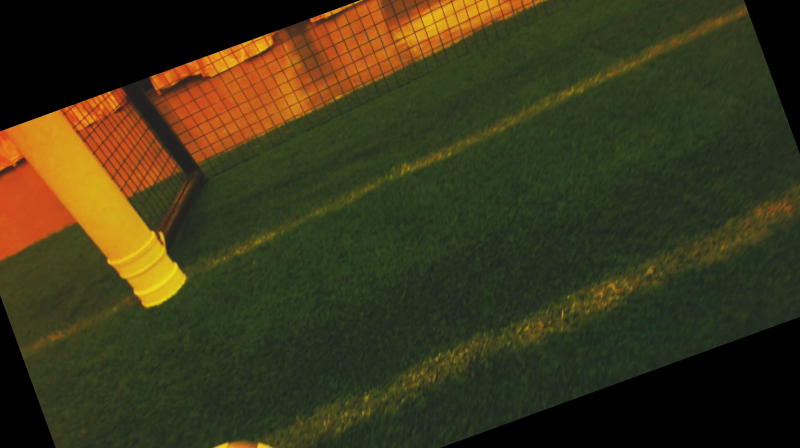post: (71, 227, 219, 323)
